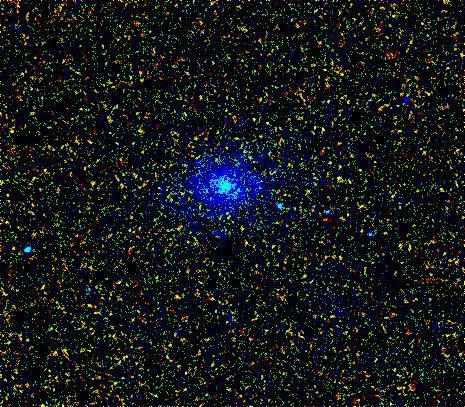star: (387, 234, 417, 264)
